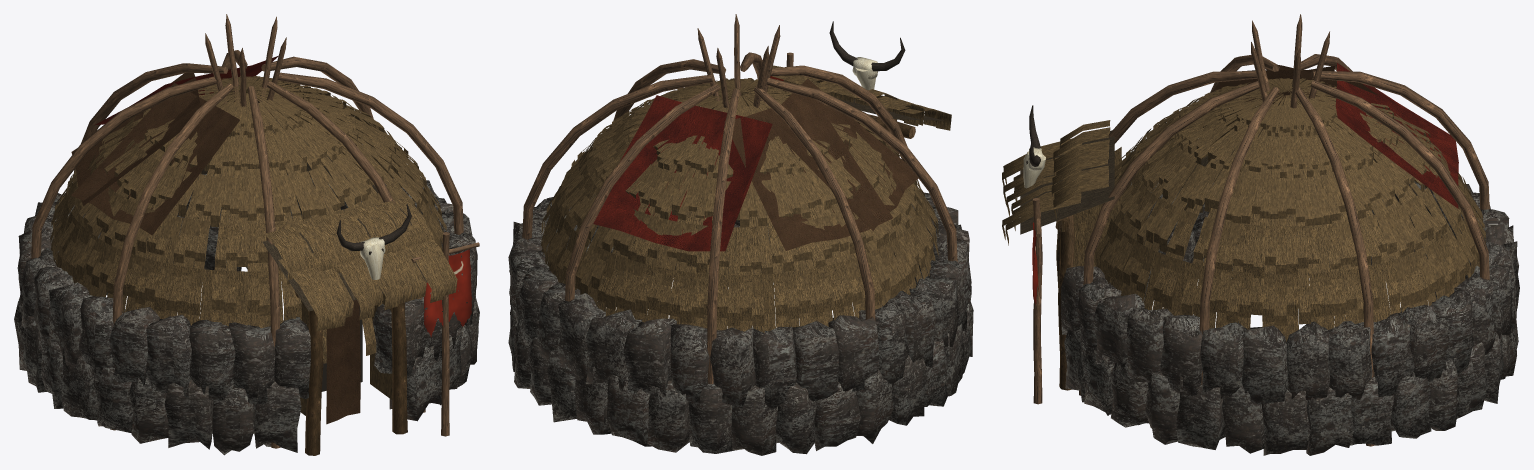
File: SM_Bld_Stone_Hut.gltf
3 views of the same model, side by side, from view 1: azimuth 30°, elevation 25°; view 2: azimuth 150°, elevation 25°; view 3: azimuth 270°, elevation 25° (orthographic).
Parts seen in each view (by area): view 1: SM_Bld_Stone_Hut; view 2: SM_Bld_Stone_Hut; view 3: SM_Bld_Stone_Hut.
Part boxes in pixels (x1,y1,x2,y2): SM_Bld_Stone_Hut: (14, 14, 479, 455); SM_Bld_Stone_Hut: (508, 14, 973, 455); SM_Bld_Stone_Hut: (1002, 14, 1519, 455).
Bounding box in the file's own units: 5.94 × 4.74 × 6.6.
Materials: 11 (10 with a texture image).
